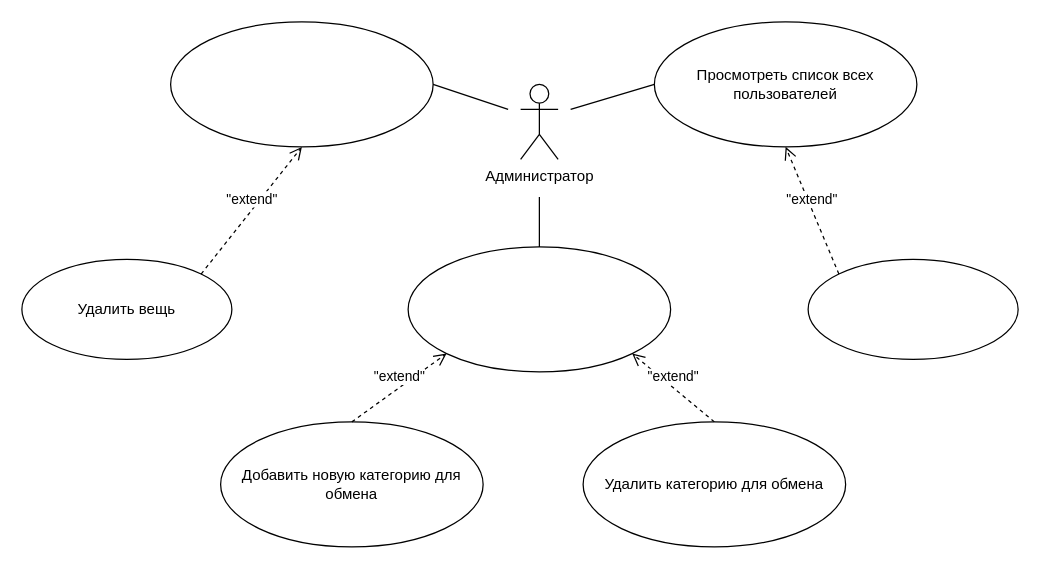
Image size: 1040x569. Some labels were removed from this diagram. The shapes that lost their labels are listed below. From the top down, each one's box as (x1, y1, x2, y2) in pixels, then its label:
(169, 21, 433, 147): Просмотреть список всех опубликованных вещей
(407, 246, 671, 372): Просмотреть список всех категорий
(807, 258, 1018, 359): Удалить пользователя
